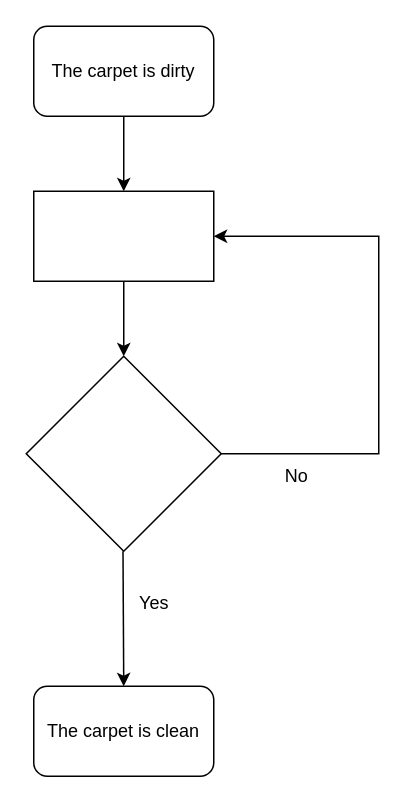
Image size: 417x803. Some labels were removed from this diagram. Each missing label, with the centre of its shape:
"Is the carpet clean?" goes at point 123,453.
"Vacuum the carpet" goes at point 123,235.
